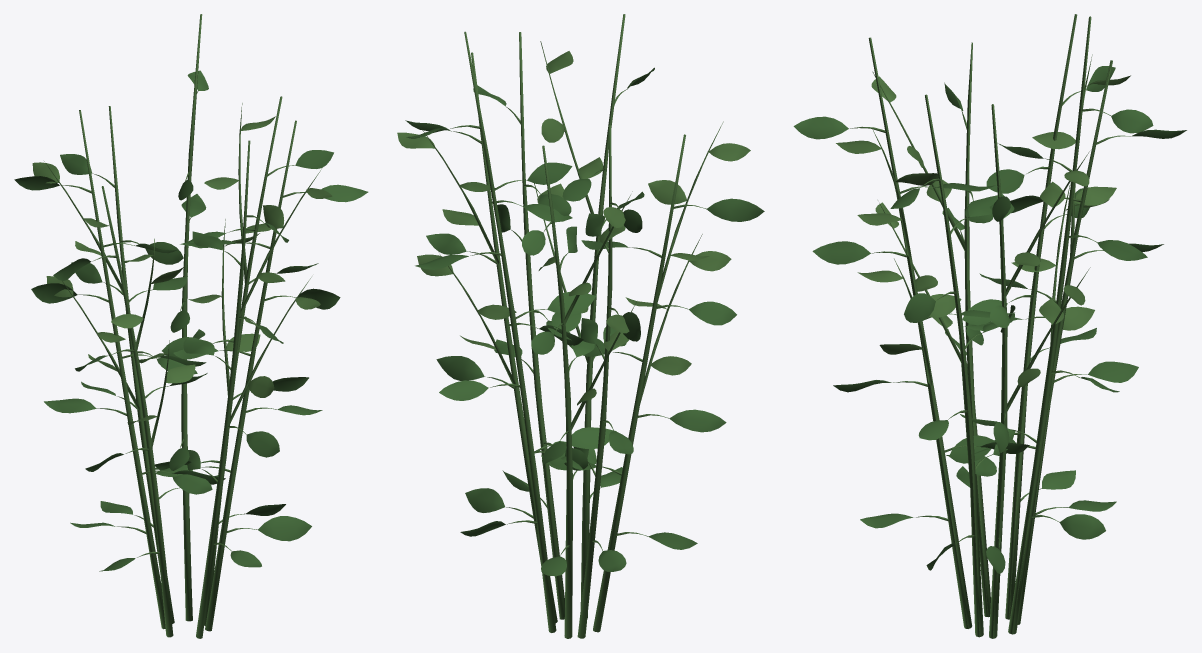
Rendered from Fragon_2_Niveau0.fbx.
The picture shows the model from 3 angles, left to right: view 1: azimuth 30°, elevation 25°; view 2: azimuth 150°, elevation 25°; view 3: azimuth 270°, elevation 25°; orthographic projection. The views are drawn at different scales.
Visible parts, largest first — view 1: Fragon_2_Niveau0; view 2: Fragon_2_Niveau0; view 3: Fragon_2_Niveau0.
Part boxes in pixels (left/top/right/bottom): Fragon_2_Niveau0: left=14, top=14, right=368, bottom=638; Fragon_2_Niveau0: left=397, top=14, right=764, bottom=638; Fragon_2_Niveau0: left=793, top=14, right=1186, bottom=638.
Size of the model in its own units: 32.44 by 57.48 by 32.
